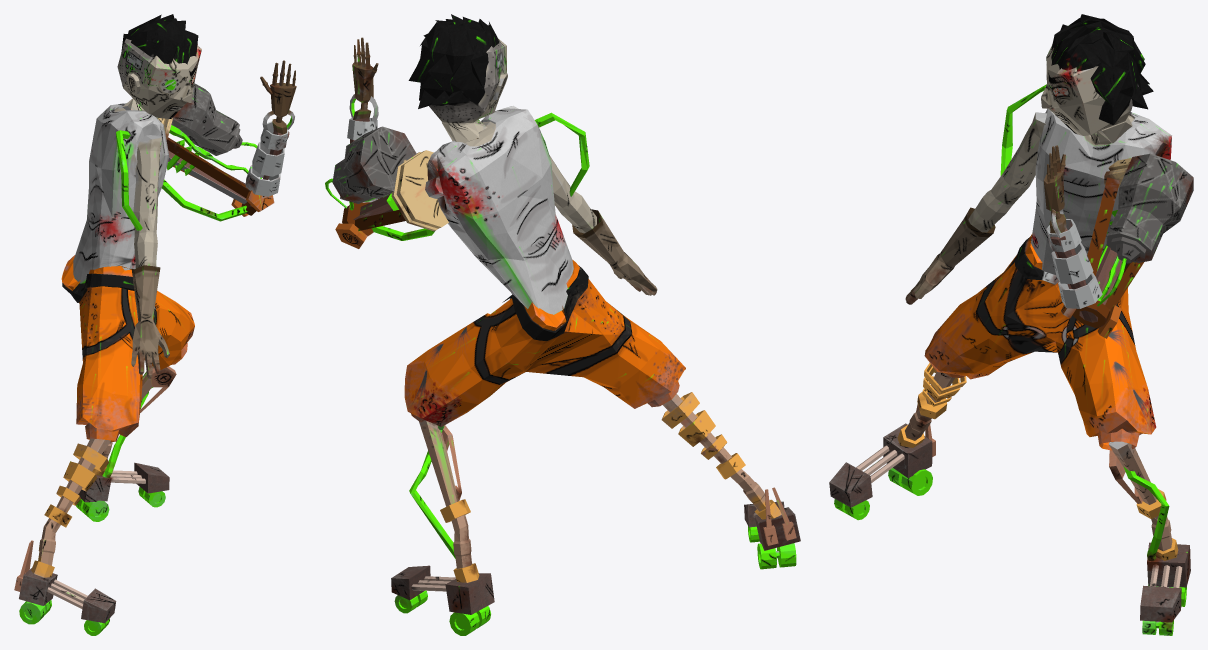
The model's file is CyborgFINALAnimation_000044.obj.
3 views of the same model, side by side, from view 1: azimuth 30°, elevation 25°; view 2: azimuth 150°, elevation 25°; view 3: azimuth 270°, elevation 25° (orthographic). The views are drawn at different scales.
Visible parts, largest first — view 1: CyborgMesh_Cube.002; view 2: CyborgMesh_Cube.002; view 3: CyborgMesh_Cube.002.
Part boxes in pixels (left/top/right/bottom): CyborgMesh_Cube.002: left=14, top=14, right=296, bottom=635; CyborgMesh_Cube.002: left=325, top=14, right=800, bottom=635; CyborgMesh_Cube.002: left=829, top=14, right=1193, bottom=635.
Size of the model in its own units: 6.01 by 8.66 by 4.71.
